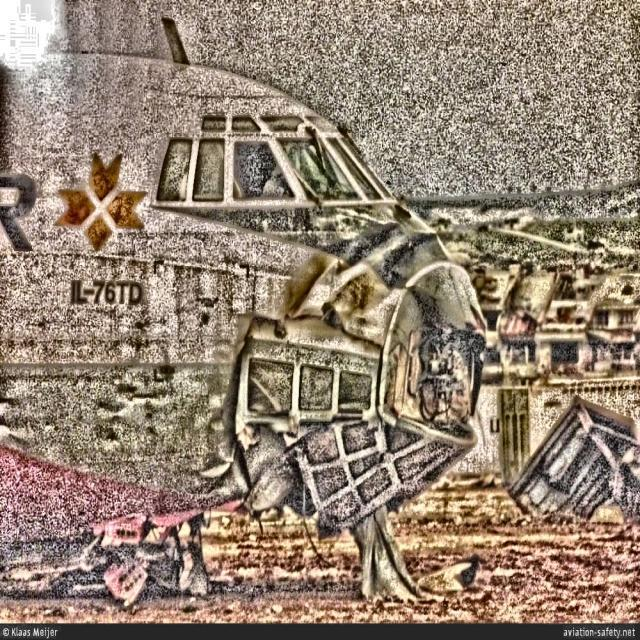dent: (197, 413, 235, 489)
